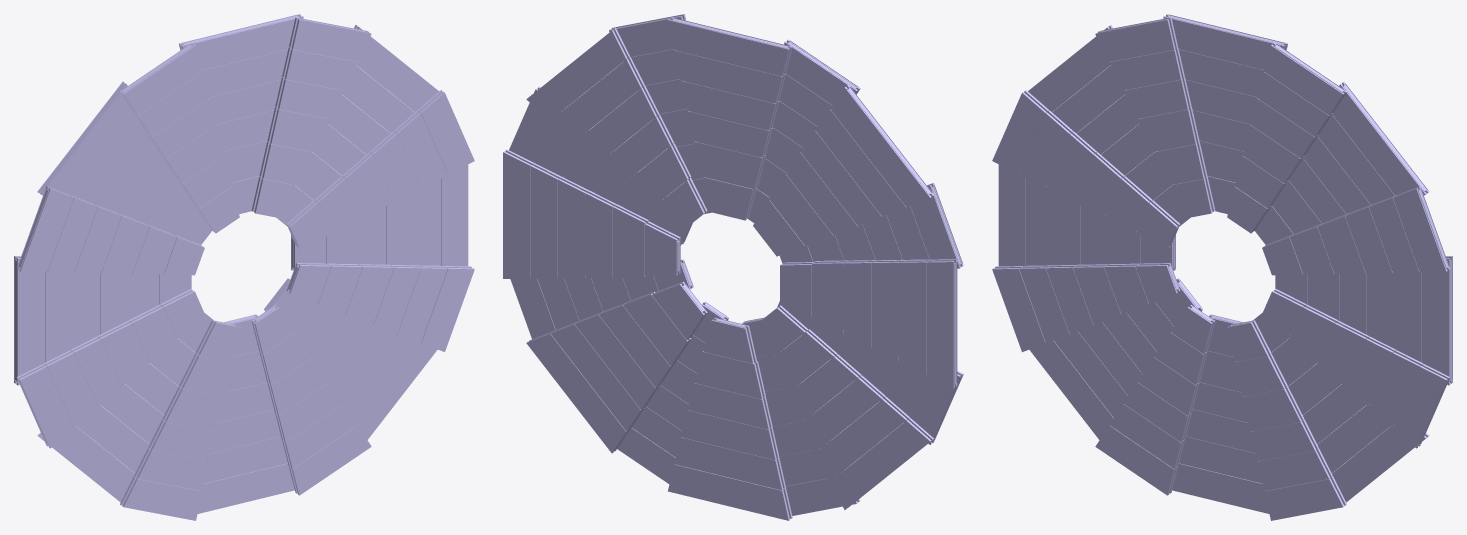
The model's file is Outer-Wheel-SideA.glb.
3 views of the same model, side by side, from view 1: azimuth 30°, elevation 25°; view 2: azimuth 150°, elevation 25°; view 3: azimuth 330°, elevation 25° (orthographic).
Visible parts, largest first — view 1: null; view 2: null; view 3: null.
Part boxes in pixels (left/top/right/bottom): null: left=14, top=14, right=474, bottom=520; null: left=503, top=14, right=963, bottom=520; null: left=992, top=14, right=1452, bottom=520.
Size of the model in its own units: 24.38 by 24.38 by 0.78.
